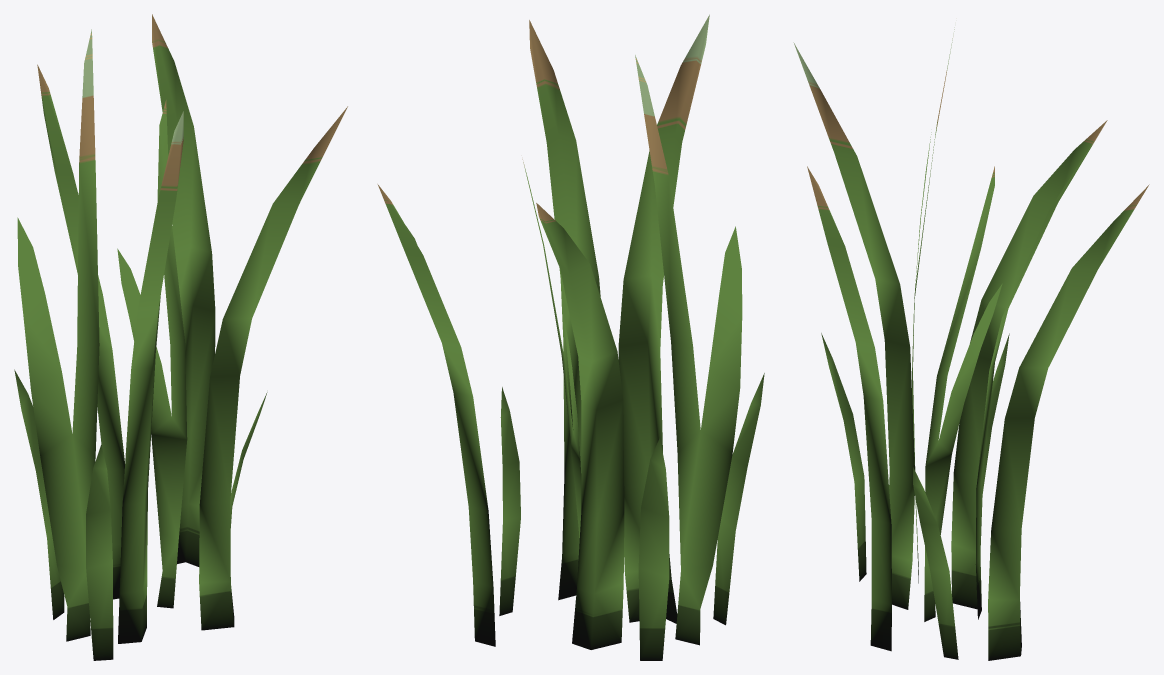
File: Grass_Common_Short__go_village.glb
3 renders of one model, left to right at view 1: azimuth 30°, elevation 25°; view 2: azimuth 150°, elevation 25°; view 3: azimuth 270°, elevation 25°, orthographic. The views are drawn at different scales.
Parts seen in each view (by area): view 1: Grass_Common_Short; view 2: Grass_Common_Short; view 3: Grass_Common_Short.
Part boxes in pixels (left/top/right/bottom): Grass_Common_Short: left=14, top=14, right=347, bottom=660; Grass_Common_Short: left=377, top=14, right=764, bottom=660; Grass_Common_Short: left=793, top=27, right=1149, bottom=660.
Size of the model in its own units: 0.6389 by 1.33 by 0.7373.
1 material, 1 textured.
